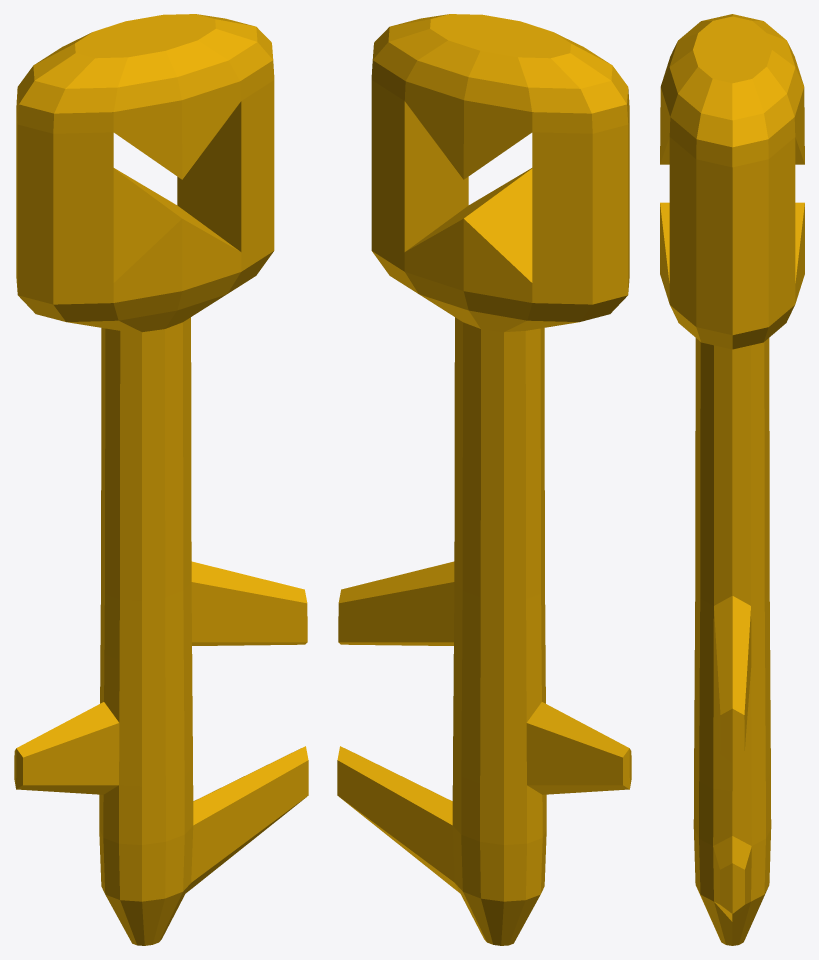
Rendered from Key.glb.
3 views of the same model, side by side, from view 1: azimuth 30°, elevation 25°; view 2: azimuth 150°, elevation 25°; view 3: azimuth 270°, elevation 25° (orthographic).
Visible parts, largest first — view 1: key; view 2: key; view 3: key.
Boxes of the visible parts, x1=… form: key: x1=14, y1=14, x2=308, y2=945; key: x1=337, y1=14, x2=631, y2=945; key: x1=660, y1=14, x2=804, y2=945.
Bounding box in the file's own units: 0.0227 × 0.0677 × 0.01.
